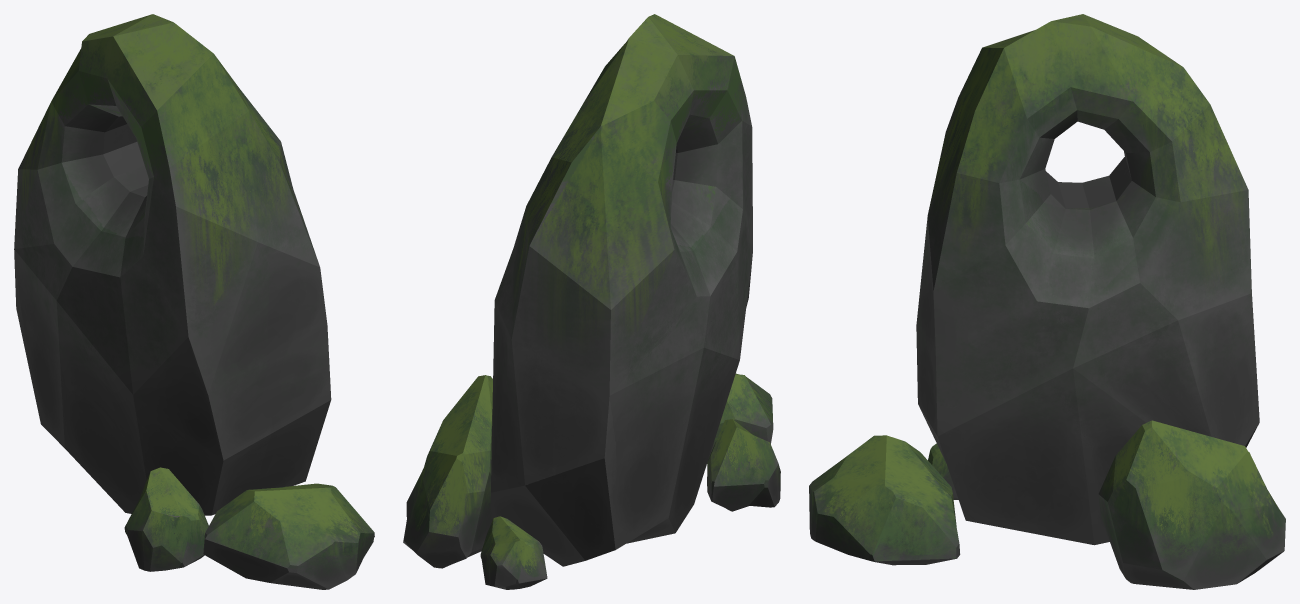
The model's file is MagicStoneMossy.fbx.
The picture shows the model from 3 angles, left to right: view 1: azimuth 30°, elevation 25°; view 2: azimuth 150°, elevation 25°; view 3: azimuth 270°, elevation 25°; orthographic projection. The views are drawn at different scales.
Visible parts, largest first — view 1: Icosphere.030; view 2: Icosphere.030; view 3: Icosphere.030.
Part boxes in pixels (x1,y1,x2,y2): Icosphere.030: (14,14,374,589); Icosphere.030: (403,14,780,589); Icosphere.030: (809,14,1285,589).
Size of the model in its own units: 92.54 by 170 by 147.
